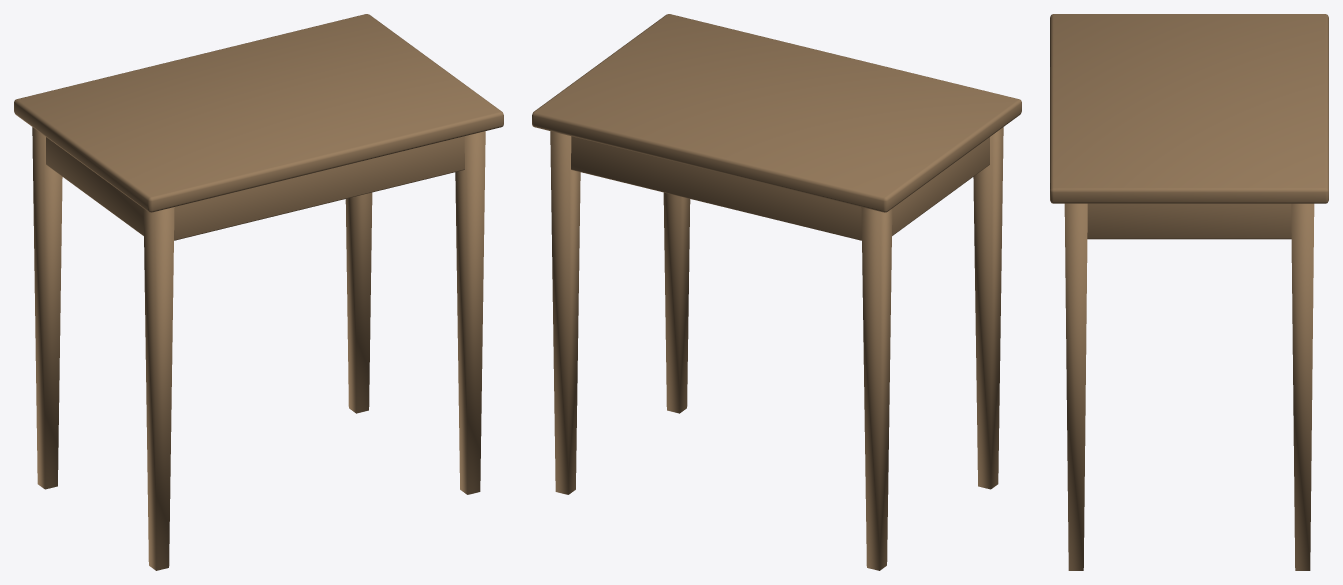
The model's file is ss_log_table.glb.
3 views of the same model, side by side, from view 1: azimuth 30°, elevation 25°; view 2: azimuth 150°, elevation 25°; view 3: azimuth 270°, elevation 25° (orthographic).
Parts seen in each view (by area): view 1: ss_log_table; view 2: ss_log_table; view 3: ss_log_table.
Boxes of the visible parts, x1,y1,x2,y2 form: ss_log_table: (14, 14, 503, 570); ss_log_table: (532, 14, 1021, 570); ss_log_table: (1050, 14, 1328, 570).
Bounding box in the file's own units: 0.72 × 0.74 × 0.48.
